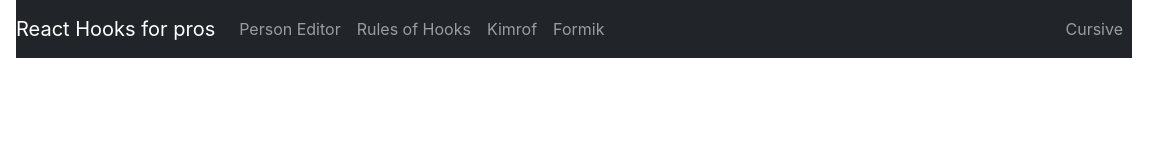
Test: Main › Can navigate to Rules of Hooks
Click the link "Rules of Hooks" at (414, 29), box [357,19,471,39]
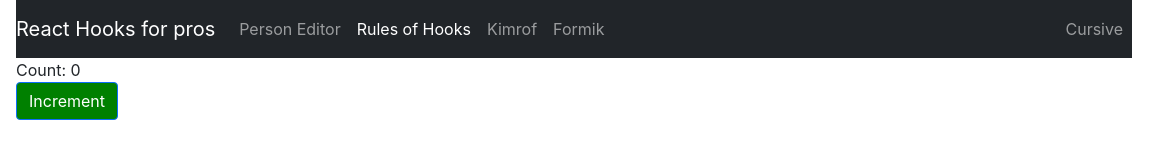
Now the text "Count: 0" is shown, box [16,60,81,80]
